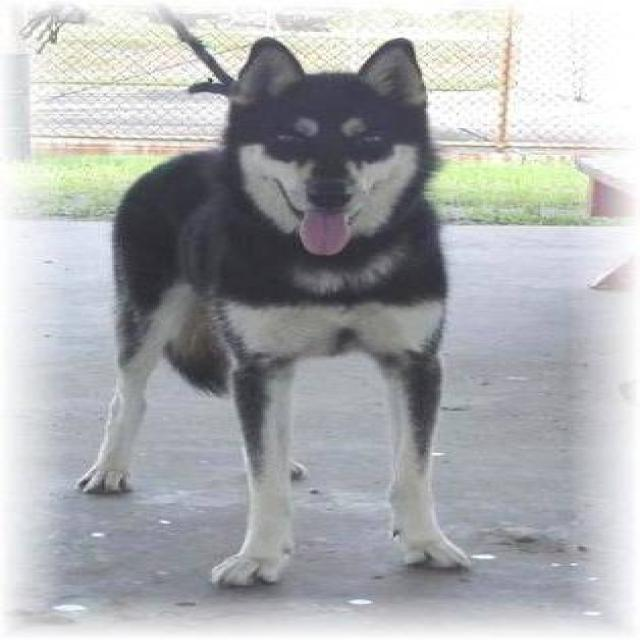dog: (73, 5, 475, 588)
